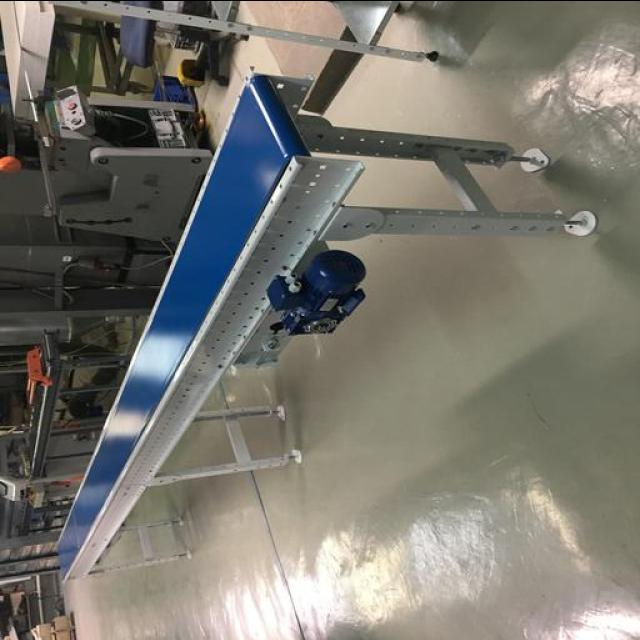conveyor: (59, 75, 295, 584)
